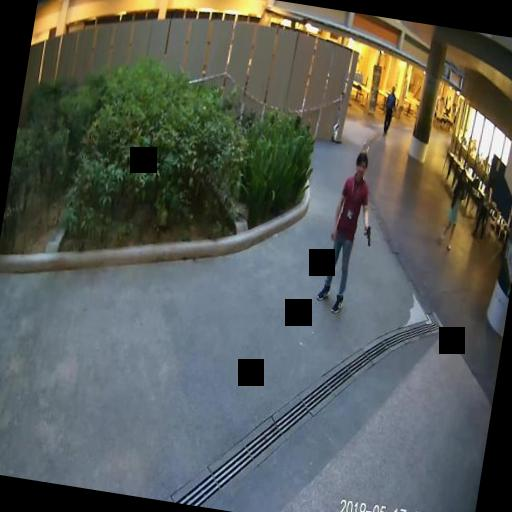Handgun: (360, 224, 371, 246)
